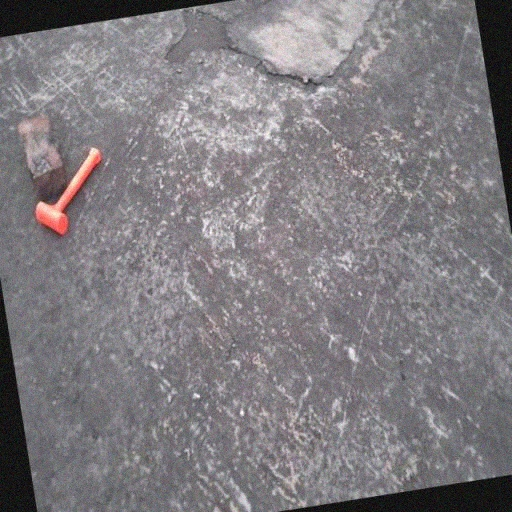mallet: (27, 147, 112, 239)
